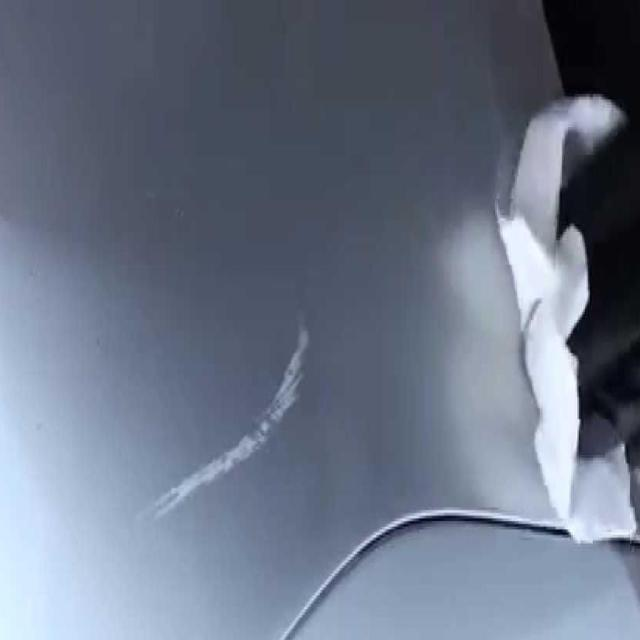scratch: (126, 306, 322, 530)
